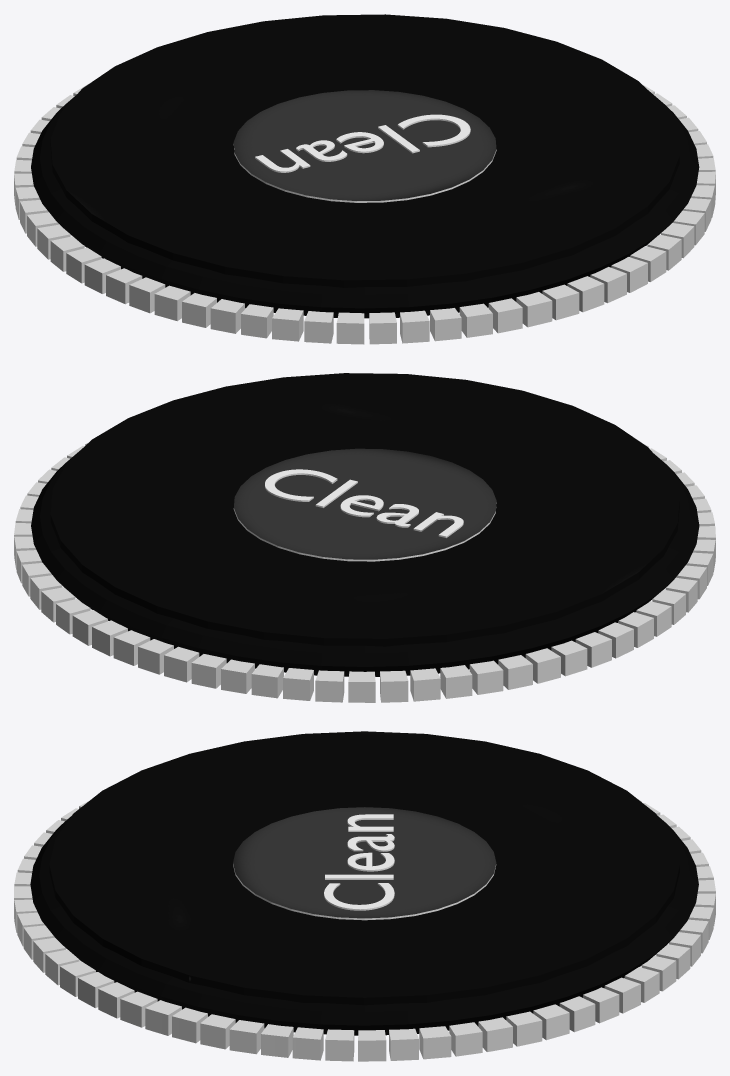
Rendered from roomba.fbx.
The picture shows the model from 3 angles, top to bottom: view 1: azimuth 30°, elevation 25°; view 2: azimuth 150°, elevation 25°; view 3: azimuth 270°, elevation 25°; orthographic projection.
Visible parts, largest first — view 1: Torus, Cube; view 2: Torus, Cube; view 3: Torus, Cube.
Part boxes in pixels (x1,y1,x2,y2): Torus: (31,14,699,318); Cube: (14,84,715,344); Torus: (31,373,699,676); Cube: (14,442,715,702); Torus: (30,731,698,1035); Cube: (14,800,715,1061).
Size of the model in its own units: 236 by 19.27 by 236.
